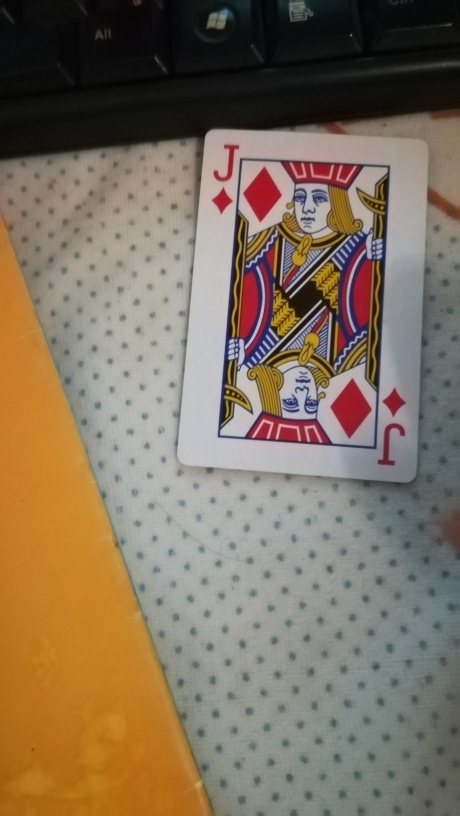fk j: (175, 125, 432, 487)
